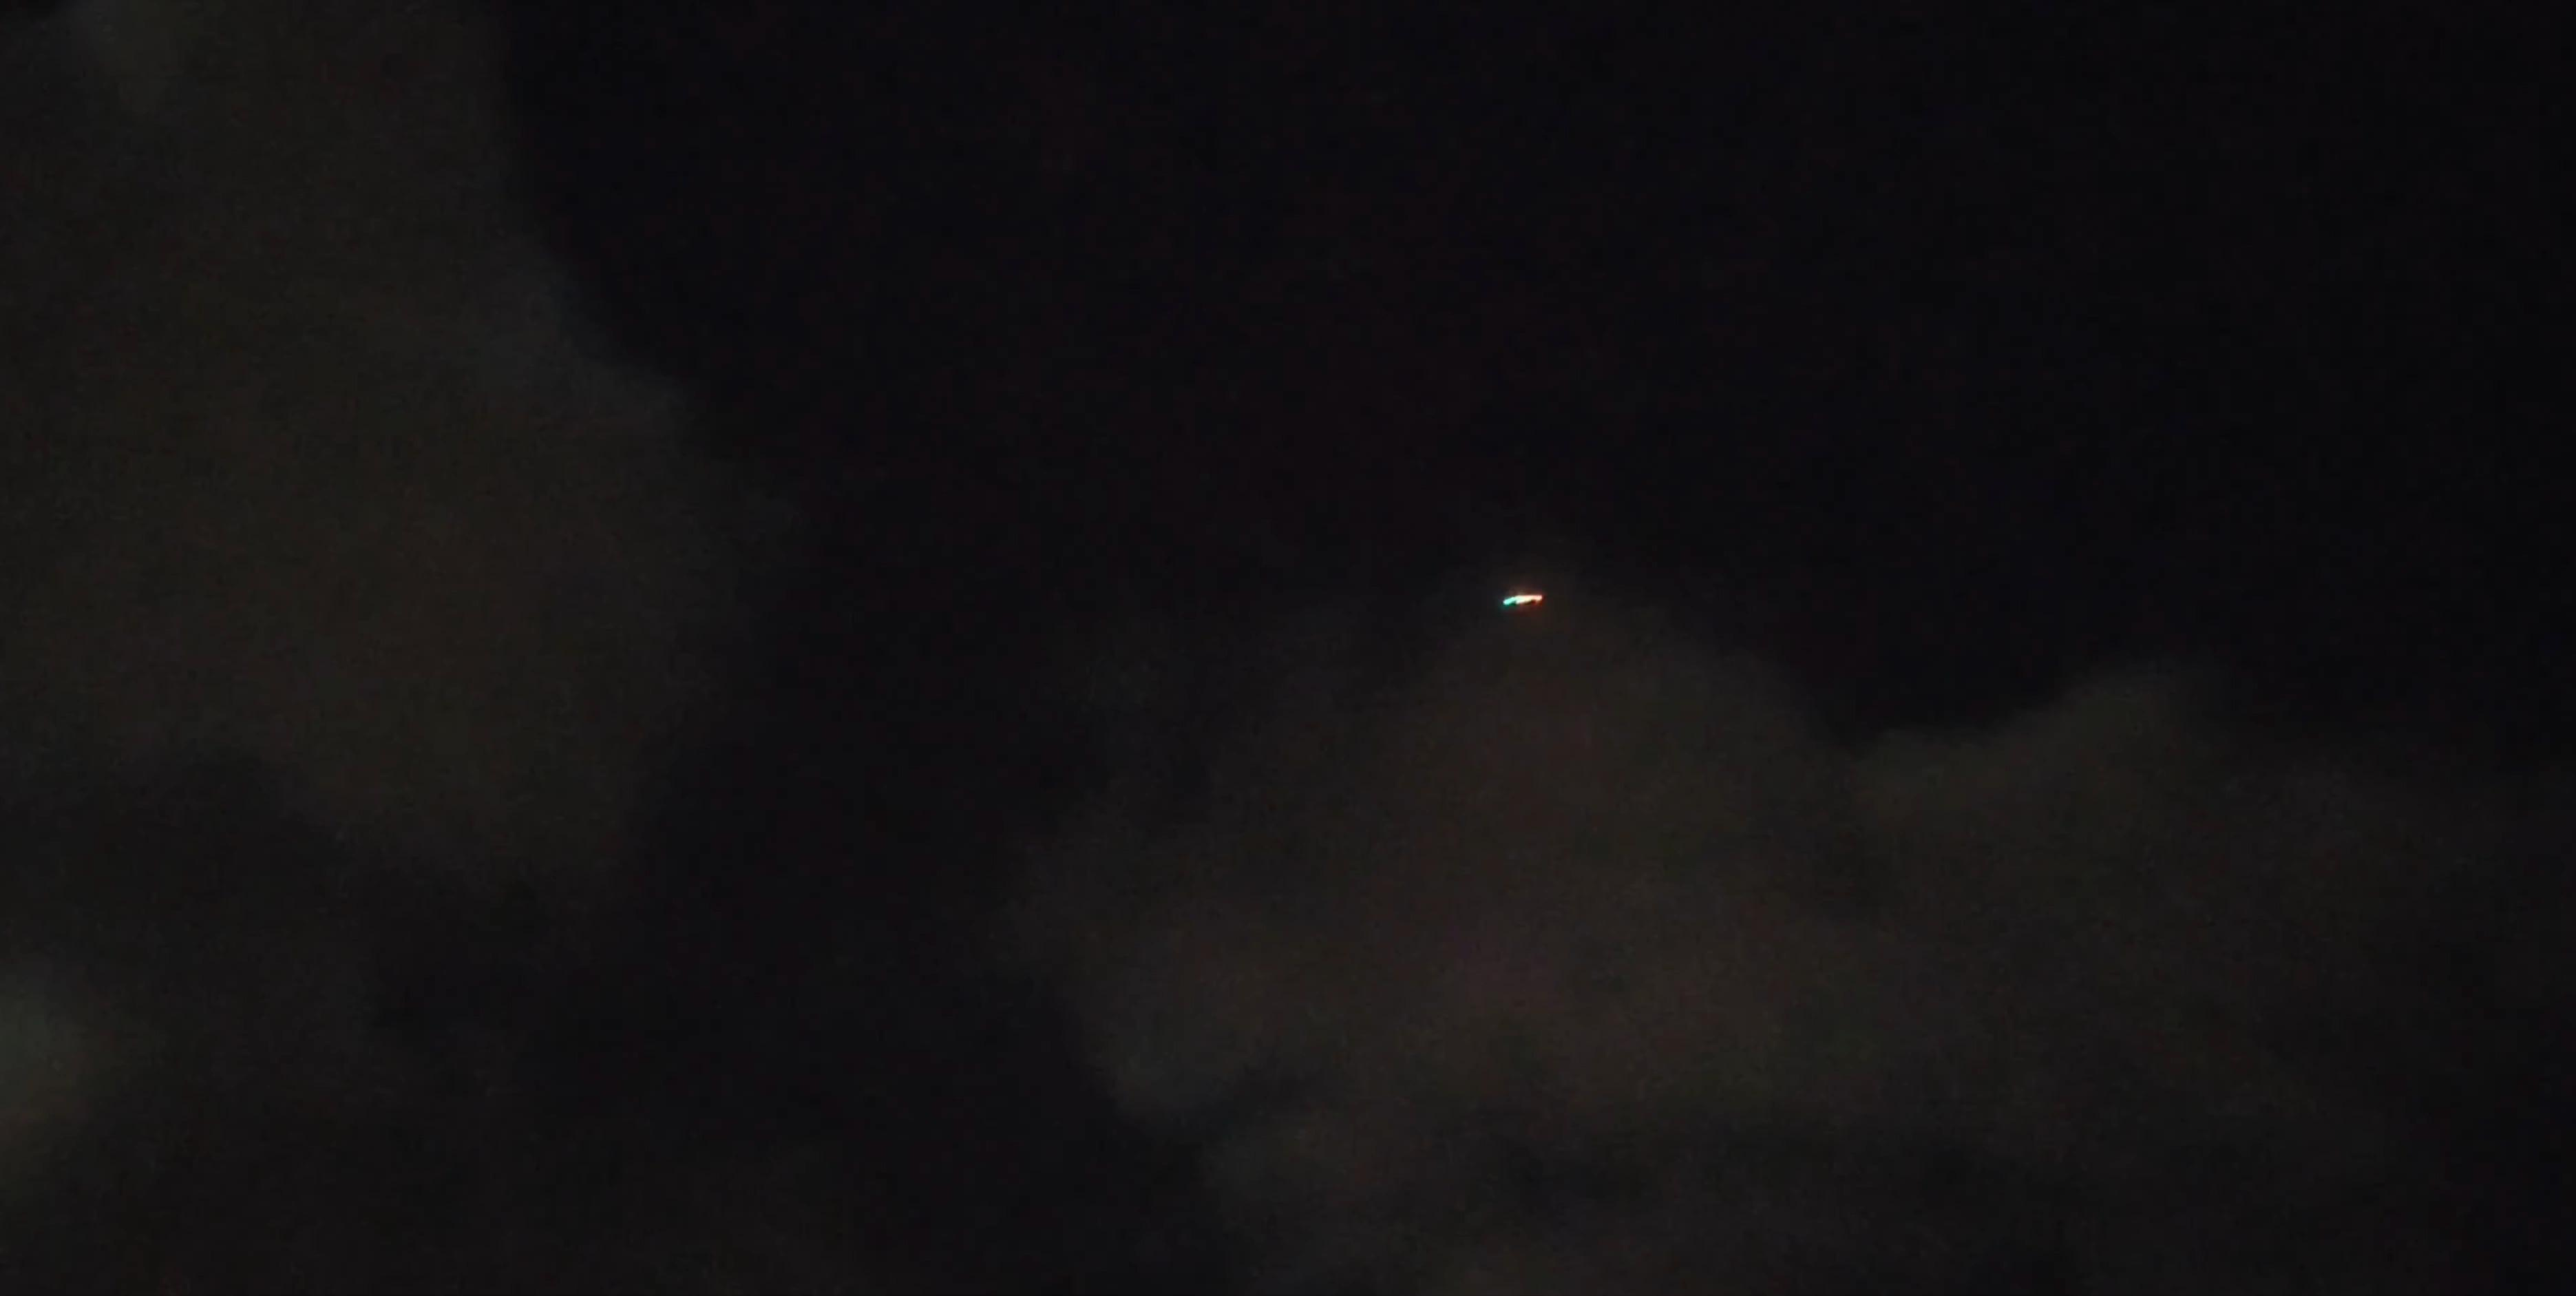Plane: (1431, 567, 1619, 627)
